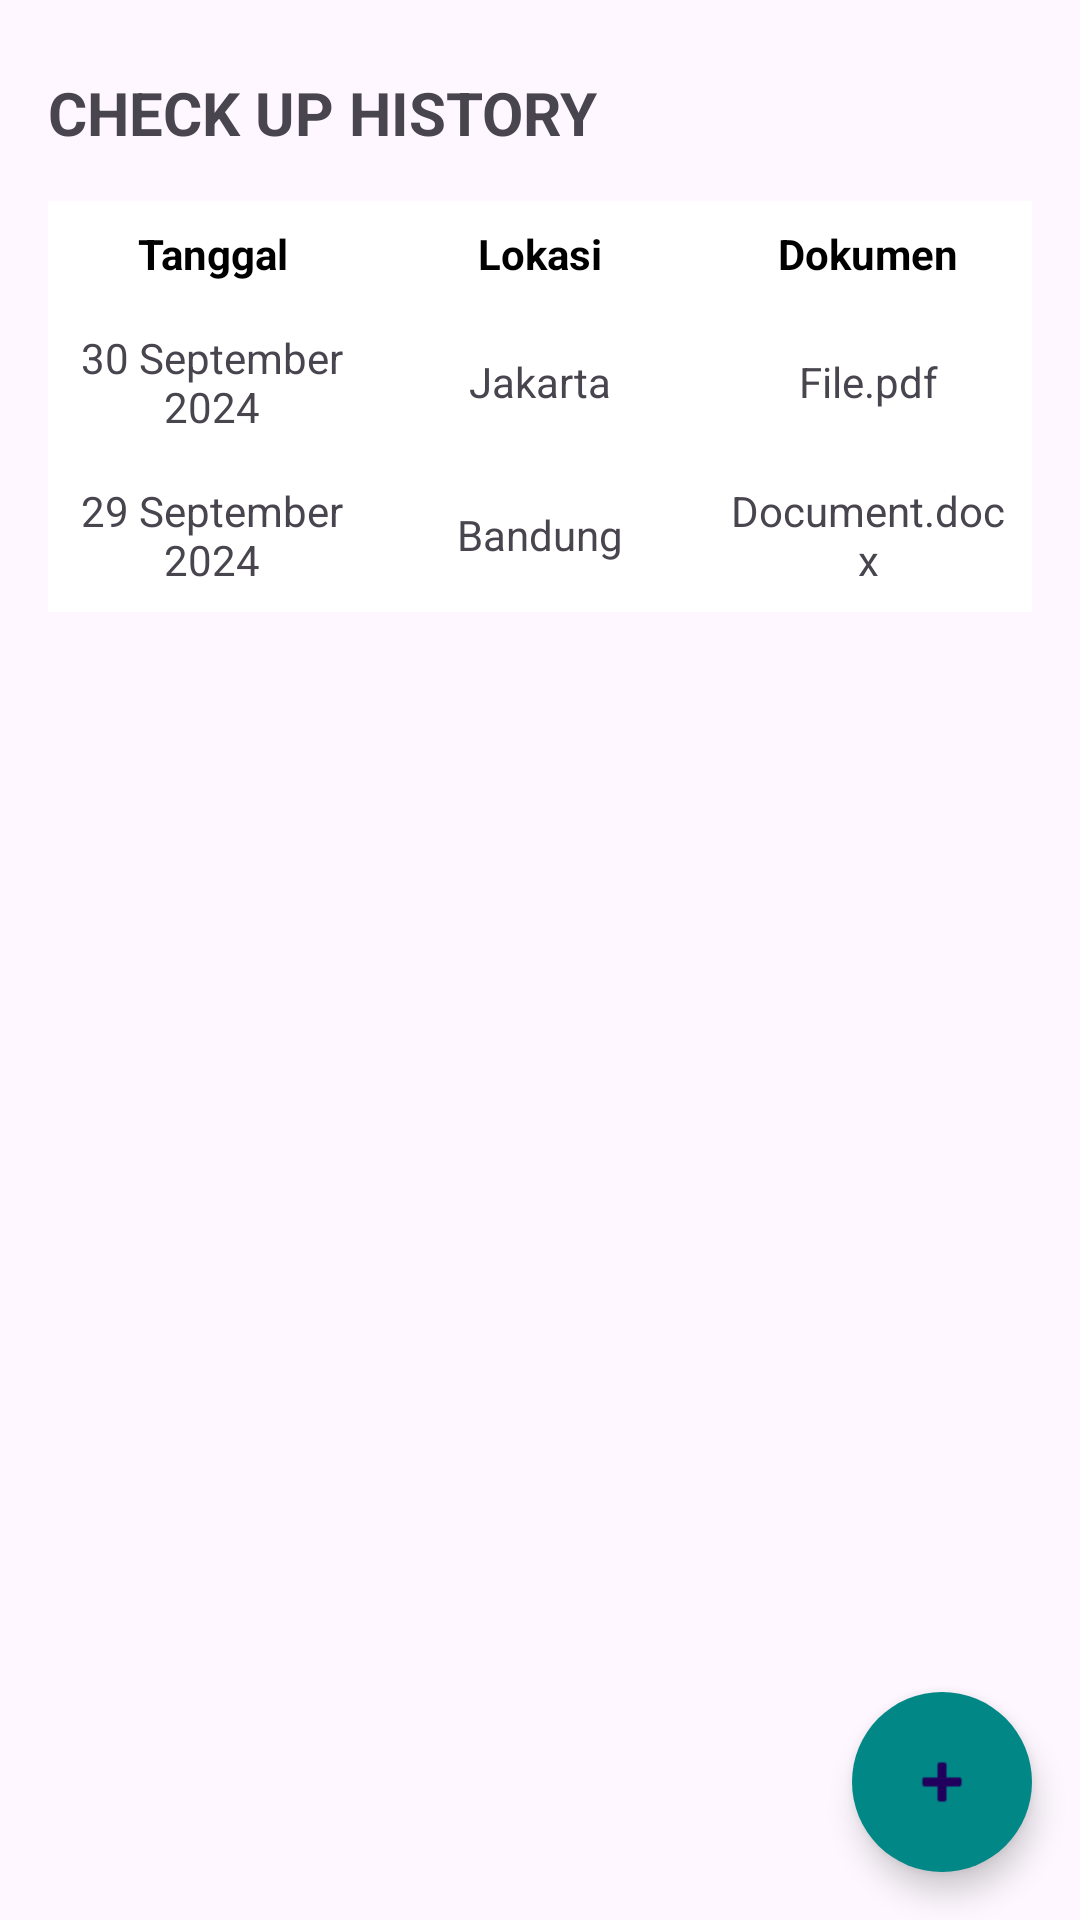

Where icons sit on this 1080 x 1920 app screen, as (x1, y1, x2, y2):
Tambah Data MCU: (852, 1692, 1032, 1872)
